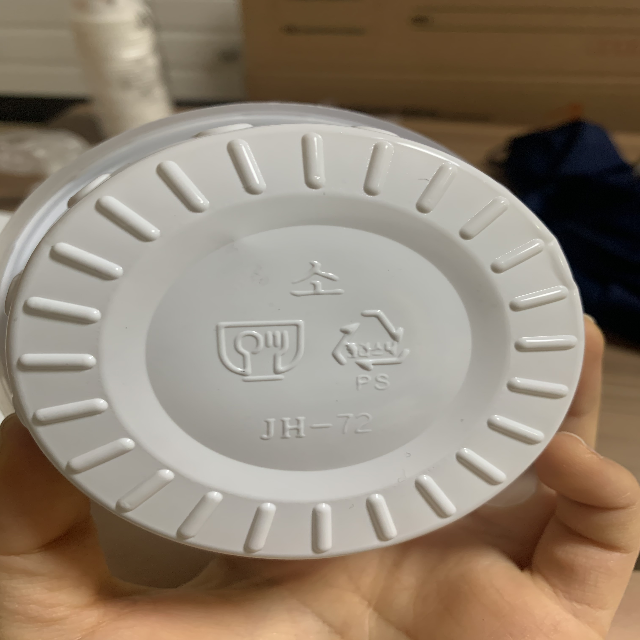ps: (329, 303, 414, 395)
